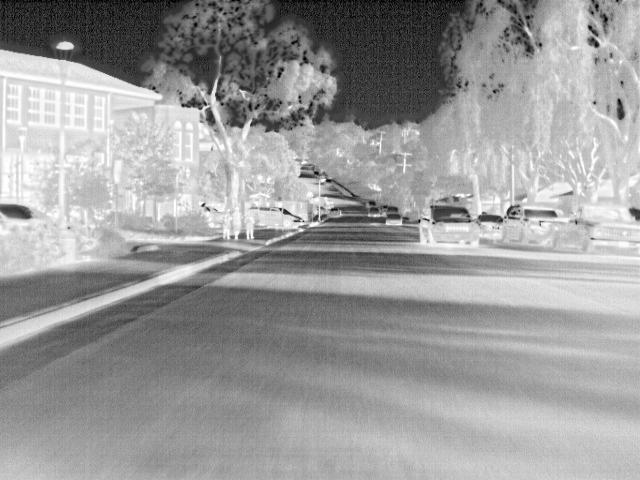car: (553, 202, 640, 256), (502, 206, 572, 250), (418, 202, 482, 250), (2, 200, 56, 244), (251, 204, 305, 229), (476, 210, 504, 242), (203, 204, 227, 228), (387, 211, 406, 225), (383, 204, 400, 216), (329, 206, 343, 218), (369, 206, 381, 216)
person: (223, 208, 235, 241), (233, 206, 244, 241), (246, 211, 256, 241)
